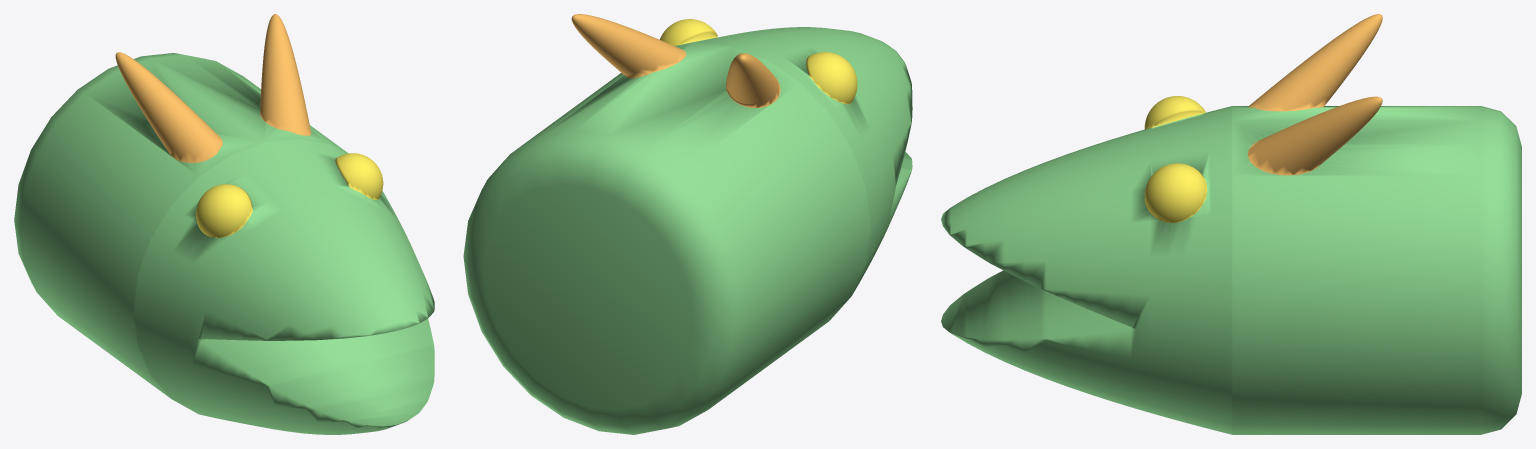
Rendered from DragonHead.fbx.
The picture shows the model from 3 angles, left to right: view 1: azimuth 30°, elevation 25°; view 2: azimuth 150°, elevation 25°; view 3: azimuth 270°, elevation 25°; orthographic projection. The views are drawn at different scales.
Visible parts, largest first — view 1: obj_0; view 2: obj_0; view 3: obj_0.
Boxes of the visible parts, x1,y1,x2,y2 form: obj_0: [14, 14, 434, 434]; obj_0: [463, 14, 912, 434]; obj_0: [941, 14, 1521, 434].
Bounding box in the file's own units: 20 × 24.33 × 35.17.
